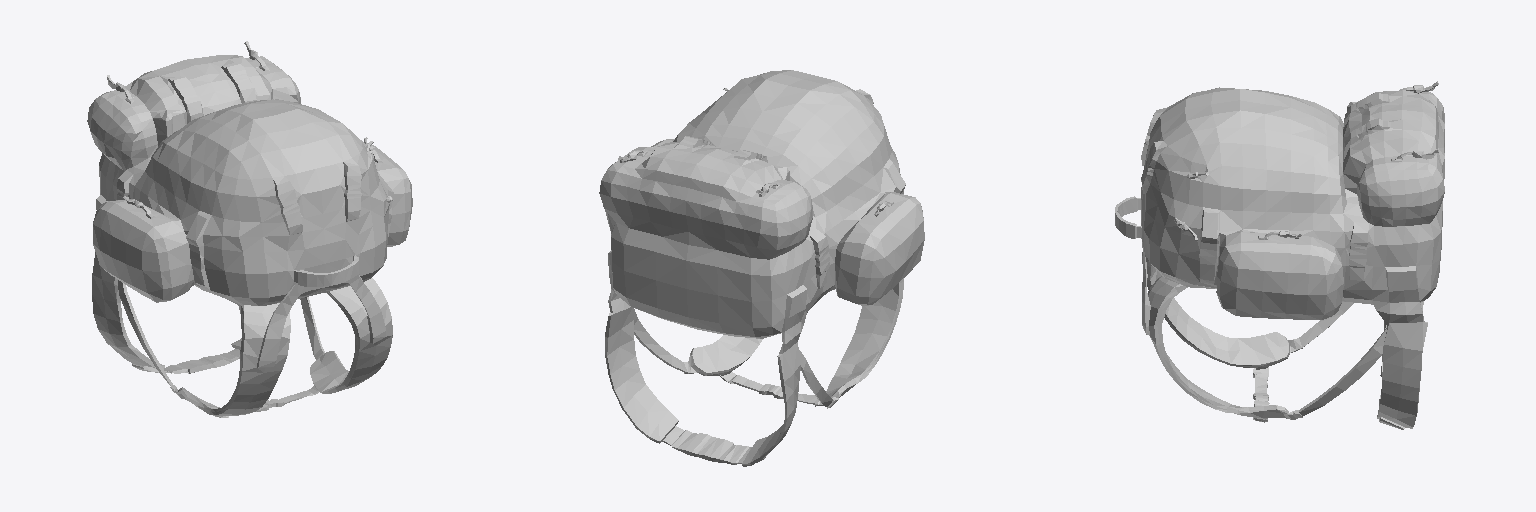
The model's file is paratusout.obj.
3 renders of one model, left to right at view 1: azimuth 30°, elevation 25°; view 2: azimuth 150°, elevation 25°; view 3: azimuth 270°, elevation 25°, orthographic.
Parts seen in each view (by area): view 1: rdmobj00; view 2: rdmobj00; view 3: rdmobj00.
Boxes of the visible parts, box(x1,y1,x2,y2) form: rdmobj00: box(87, 41, 412, 417); rdmobj00: box(599, 70, 924, 466); rdmobj00: box(1115, 81, 1444, 429).
Bounding box in the file's own units: 21.72 × 22.85 × 21.9.